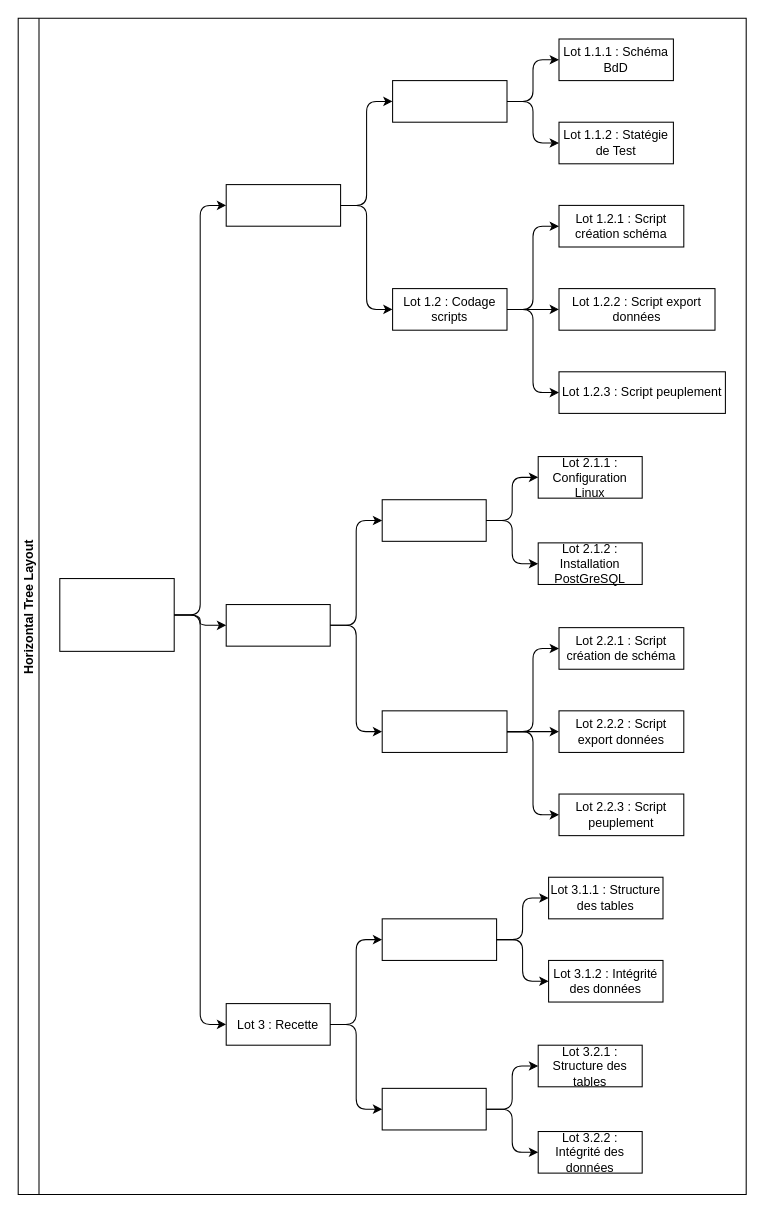
The diagram is 764 pixels wide and 1213 high, and some of its shapes have lost their labels. Each missing label, with the box of its shape:
Lot 1 : Préparation: (225, 184, 341, 226)
Lot 1.1 : Conception: (392, 80, 507, 122)
Lot 2 : Réalisation: (225, 604, 330, 646)
Lot 2.1 : Installation du serveur: (381, 499, 486, 541)
Lot 2.2 : Execution des scripts: (381, 710, 507, 752)
Lot 3.1 : Données Clients: (381, 918, 497, 960)
Lot 3.2 : Données Facturation: (381, 1087, 486, 1130)
Projet de migration technique d’une Base de Données: (59, 578, 174, 651)
